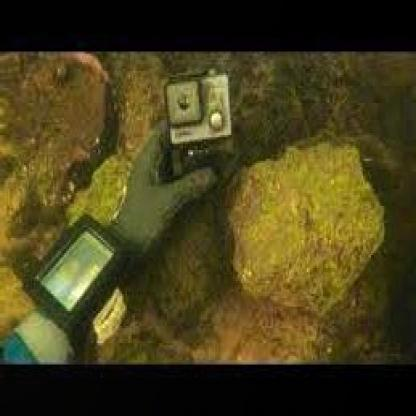electronics: (161, 69, 236, 148)
